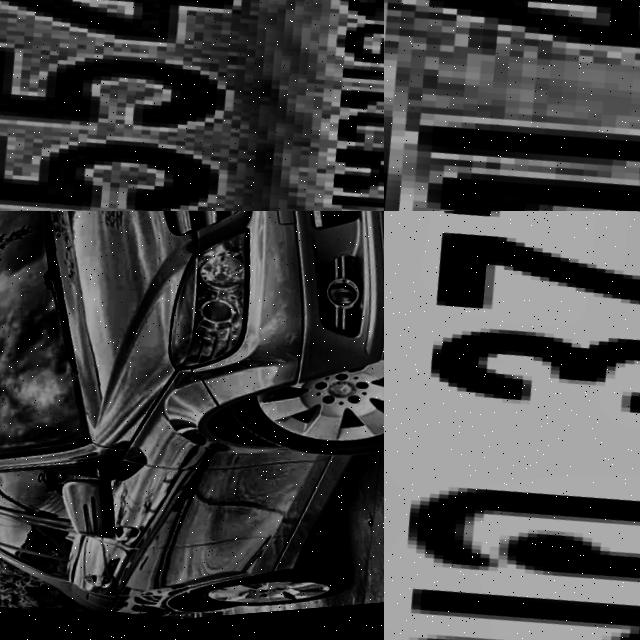license-plate: (384, 211, 640, 640), (0, 0, 384, 211), (384, 0, 640, 211)
